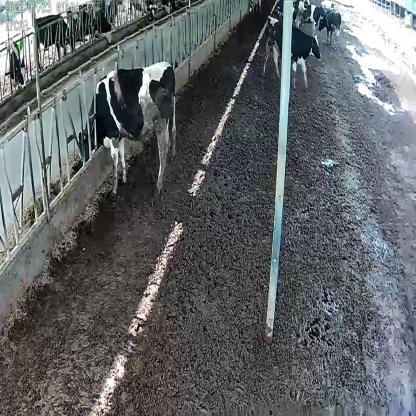cow: (78, 61, 178, 199), (263, 13, 322, 87), (296, 0, 325, 39), (318, 6, 341, 49)
